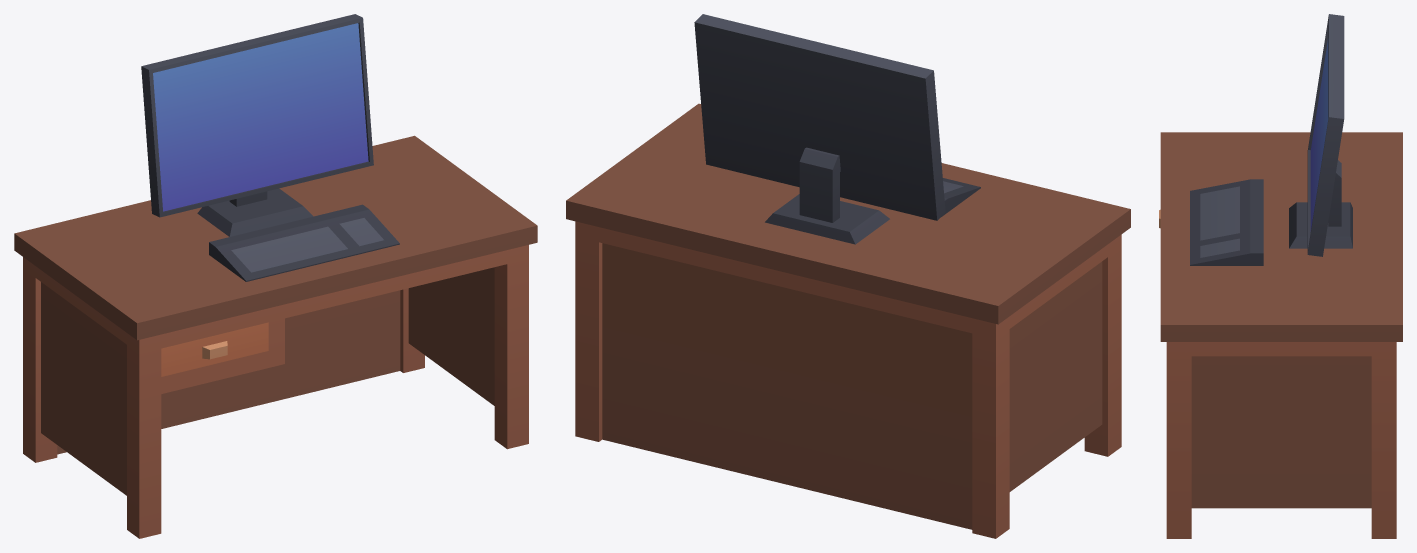
Rendered from Computer.glb.
The picture shows the model from 3 angles, left to right: view 1: azimuth 30°, elevation 25°; view 2: azimuth 150°, elevation 25°; view 3: azimuth 270°, elevation 25°; orthographic projection. The views are drawn at different scales.
Parts seen in each view (by area): view 1: Computer; view 2: Computer; view 3: Computer.
Boxes of the visible parts, <box> form: Computer: <box>14,14,537,538</box>; Computer: <box>566,14,1130,538</box>; Computer: <box>1159,14,1402,538</box>.
Size of what is drawn, in the model's own units: 2.94 by 2.71 by 1.57.
Materials: 1 (1 with a texture image).
